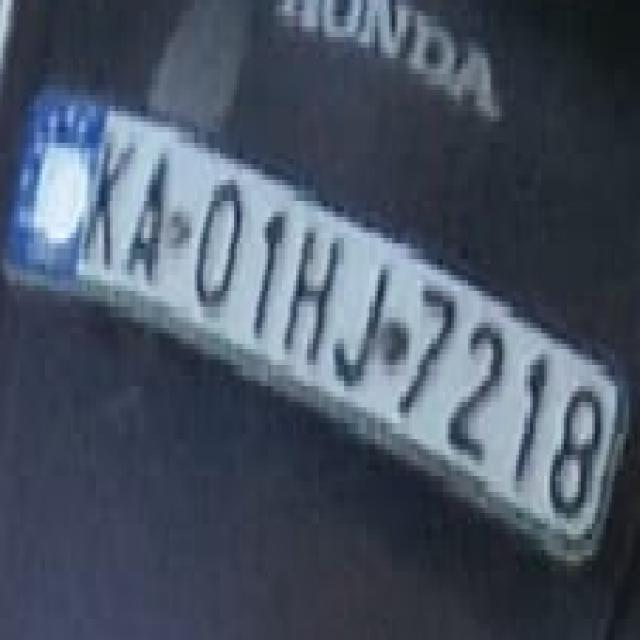0: (186, 169, 254, 320)
1: (495, 344, 561, 494), (237, 194, 292, 343)
7: (385, 270, 467, 433)
8: (535, 368, 615, 539)
A: (117, 142, 178, 290)
H: (276, 213, 349, 370)
J: (322, 242, 399, 393)
K: (72, 123, 141, 275)
